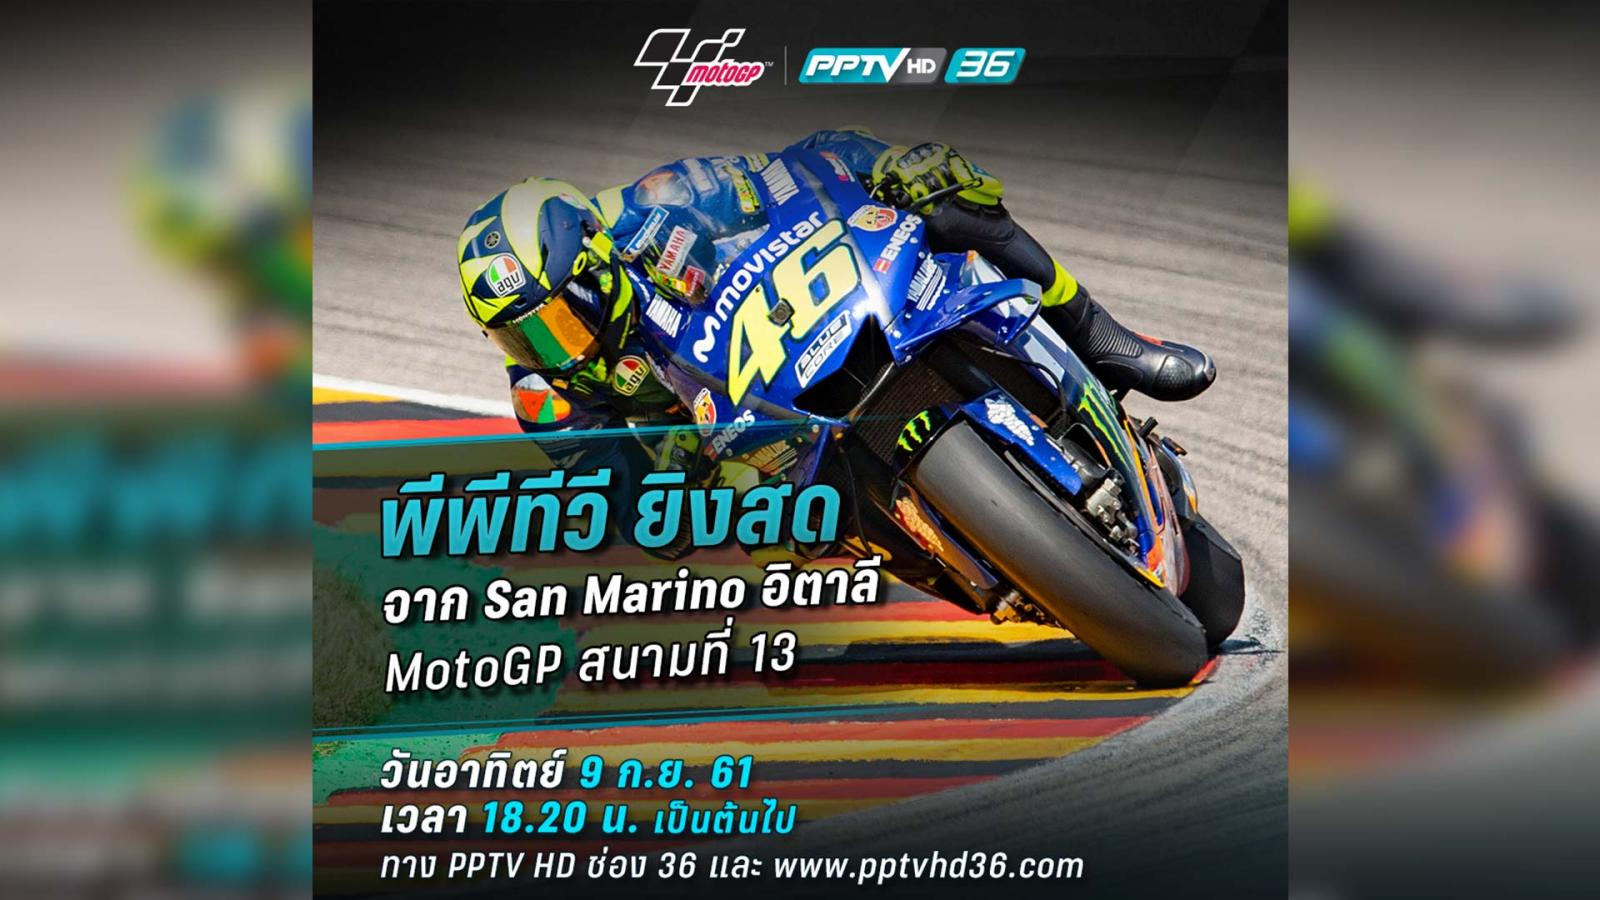helmet: (436, 156, 632, 386)
